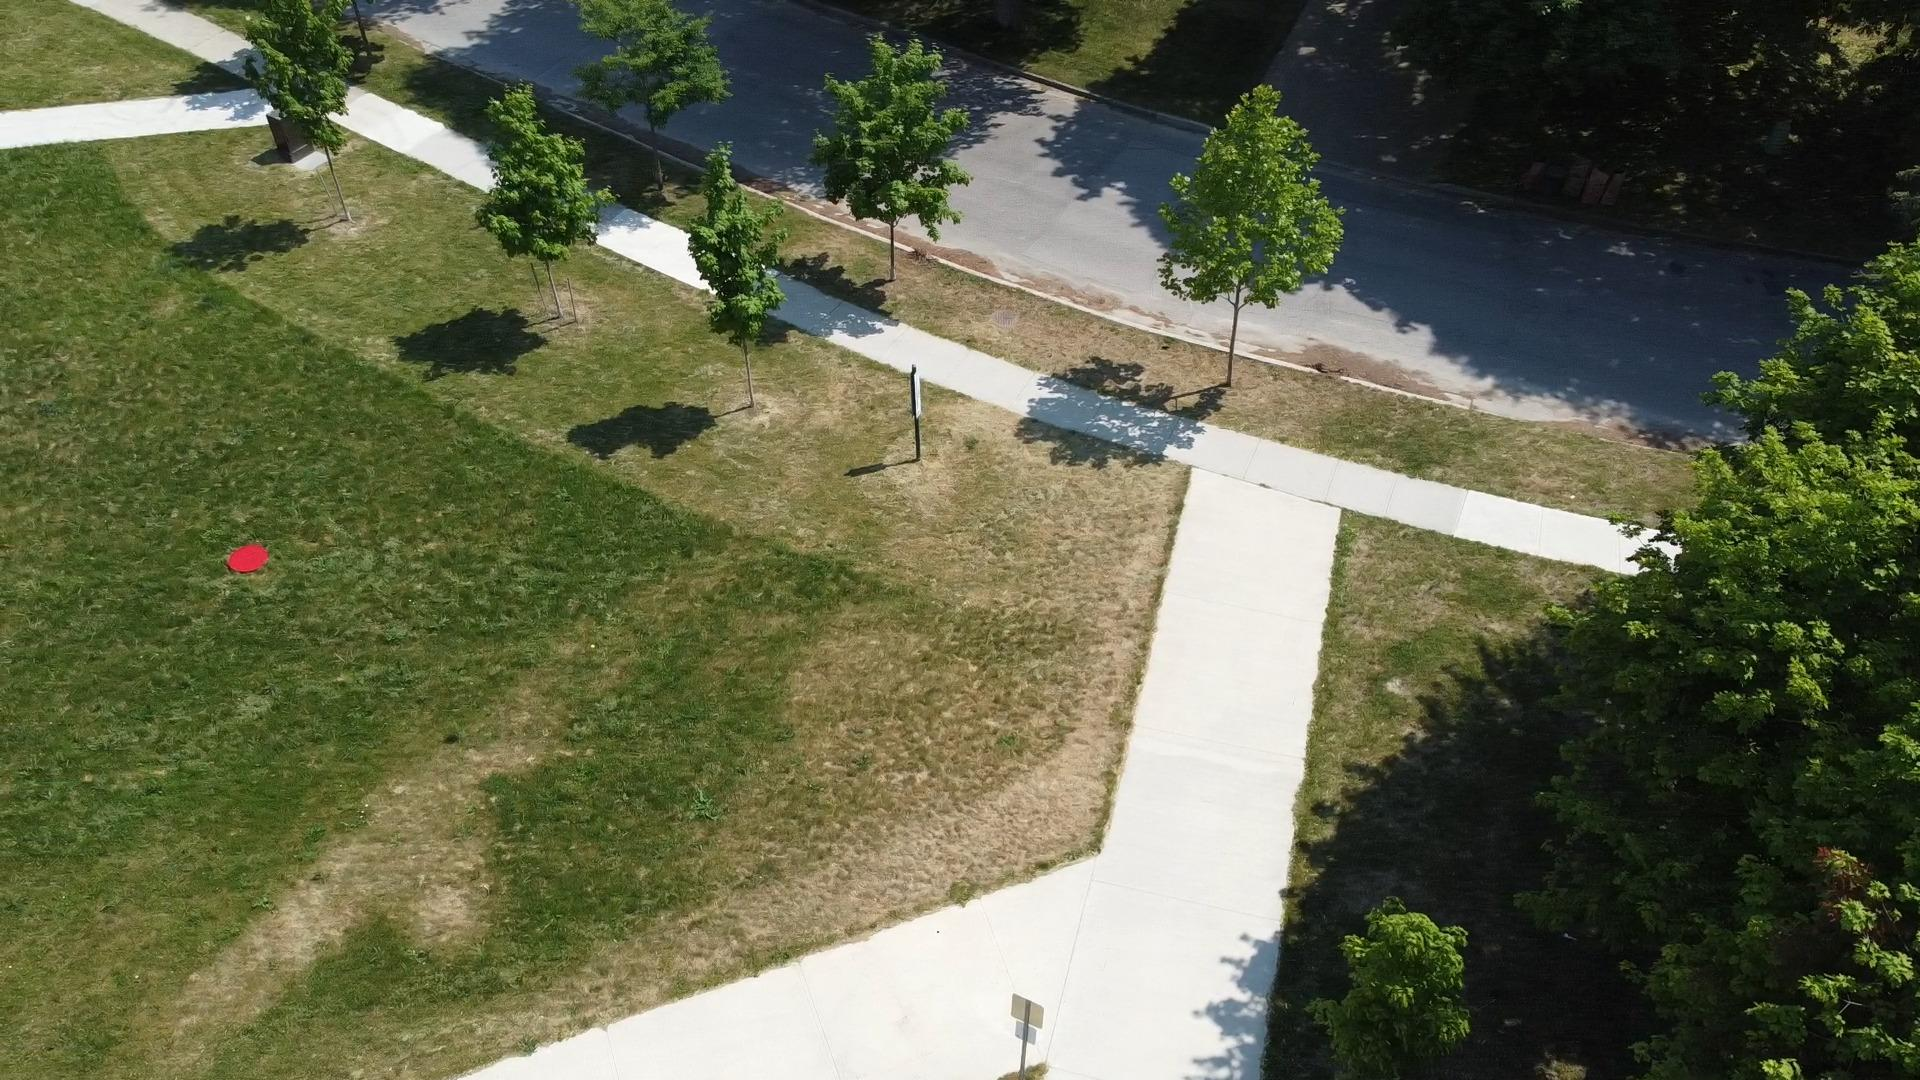Red: (227, 543, 269, 574)
